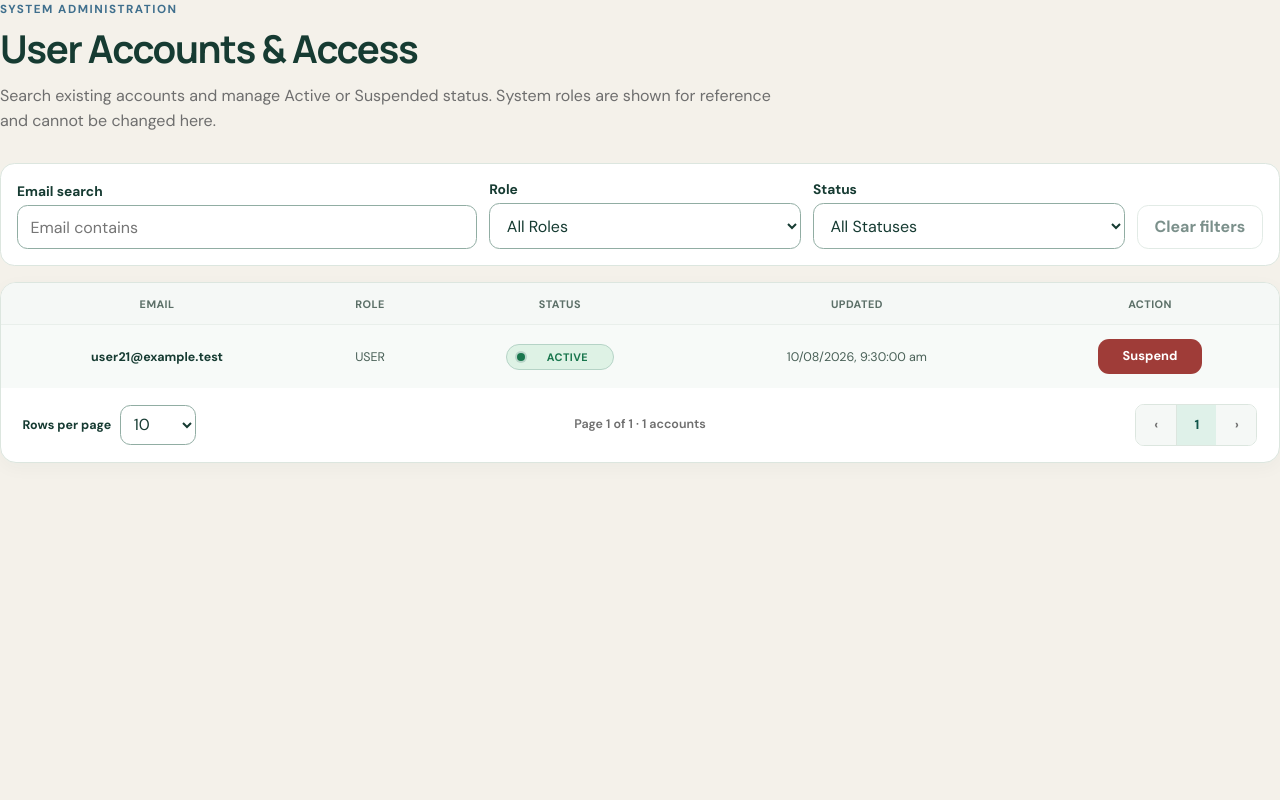
Test: UserAccessPage UC13 account status management › prevents submission when the reason is blank
The width and height of the screenshot is (1280, 800).
Expected: the column heading "user21@example.test" is shown, [1,325,313,388]
Click the button "Suspend". click: (1150, 357)
box: [1098,339,1202,374]
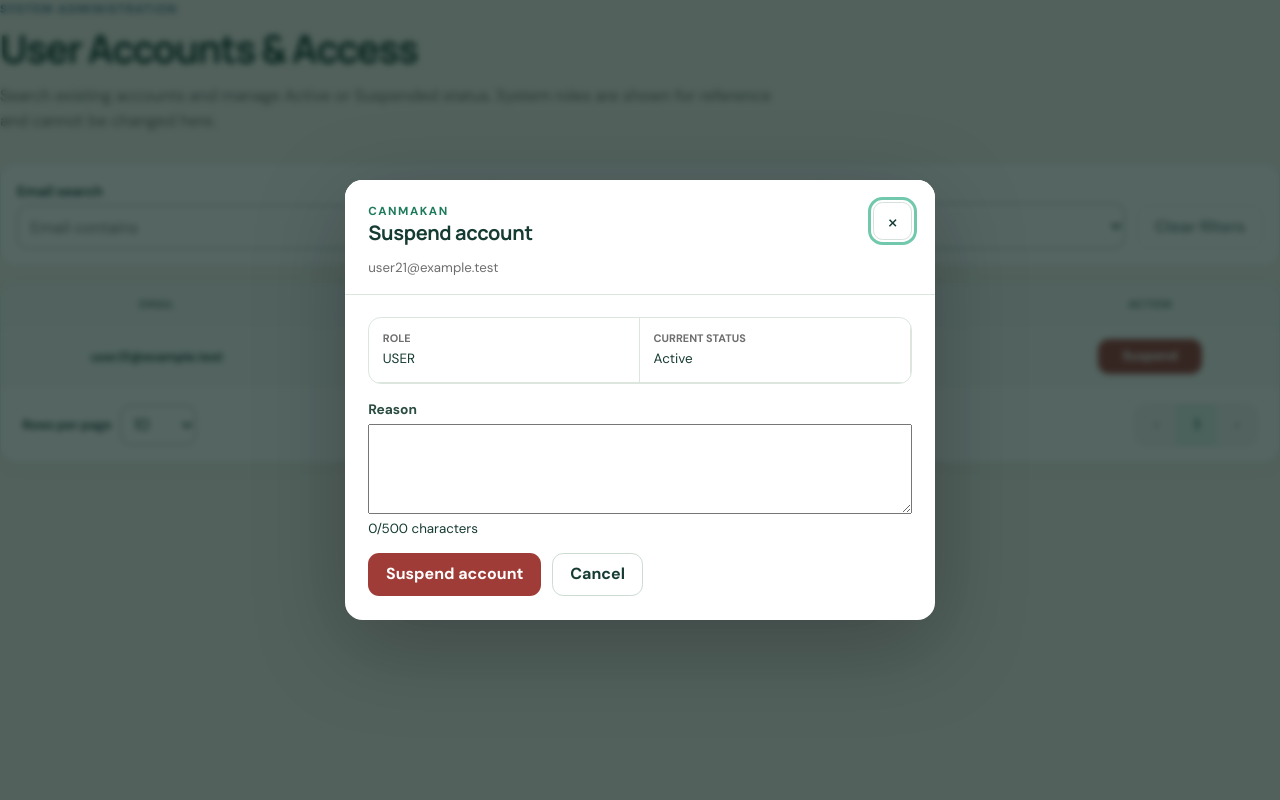
Click the button "Suspend account". click: (455, 574)
box: [368,552,541,596]
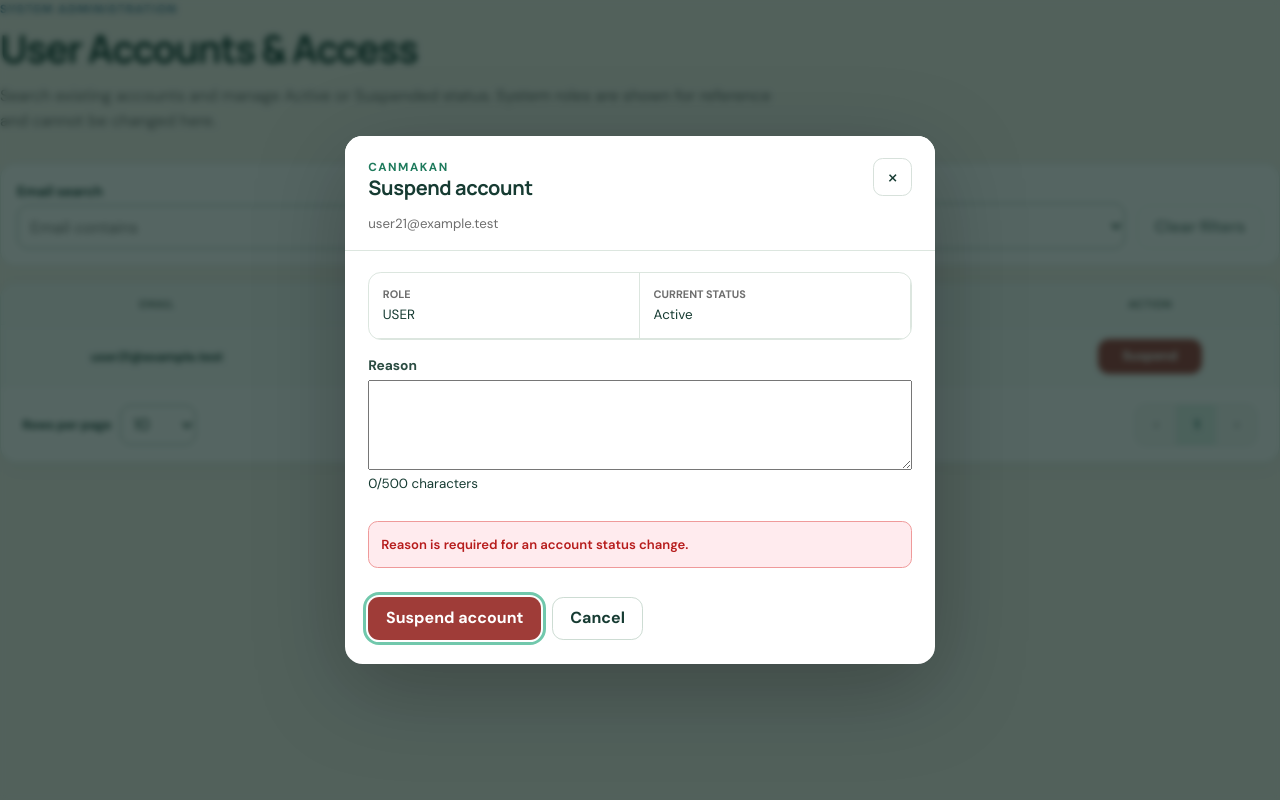
Expected: the text "Reason is required for an account status change." is shown, [368,521,912,568]
